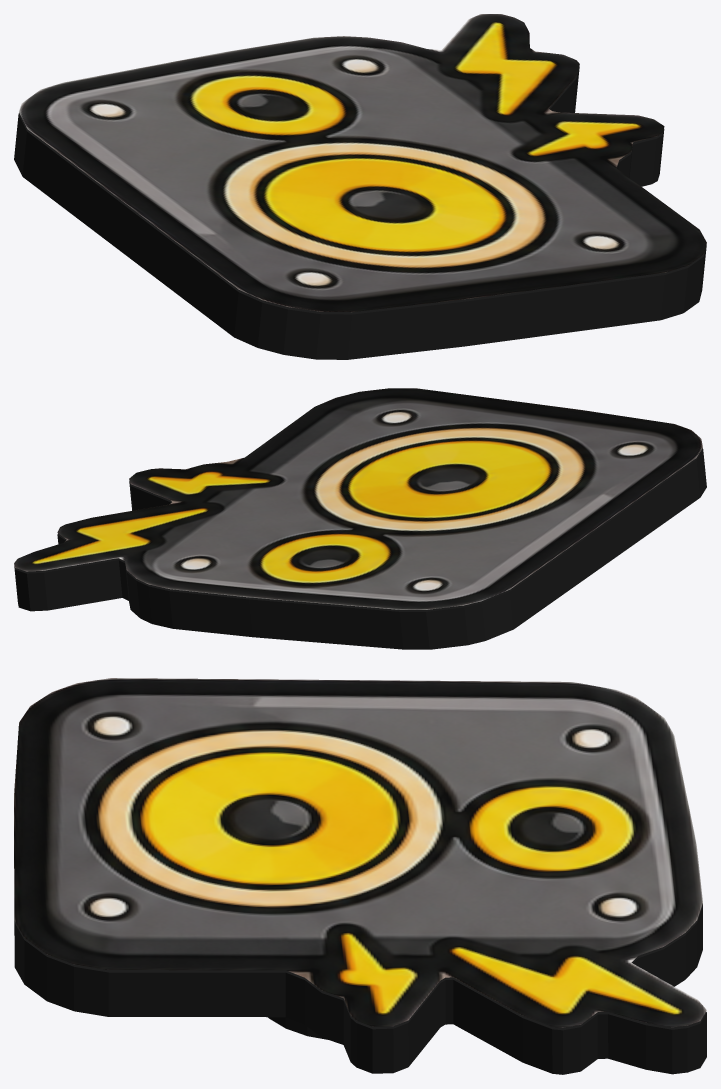
Rendered from music-speaker.glb.
3 views of the same model, one above another, from view 1: azimuth 30°, elevation 25°; view 2: azimuth 150°, elevation 25°; view 3: azimuth 270°, elevation 25° (orthographic). The views are drawn at different scales.
Parts seen in each view (by area): view 1: MUSIC_Speaker_MODEL; view 2: MUSIC_Speaker_MODEL; view 3: MUSIC_Speaker_MODEL.
Boxes of the visible parts, box(x1,y1,x2,y2) form: MUSIC_Speaker_MODEL: box(14, 14, 706, 359); MUSIC_Speaker_MODEL: box(14, 388, 706, 649); MUSIC_Speaker_MODEL: box(14, 678, 706, 1074).
Size of the model in its own units: 0.3334 by 0.1003 by 0.3398.
3 materials, 1 textured.
